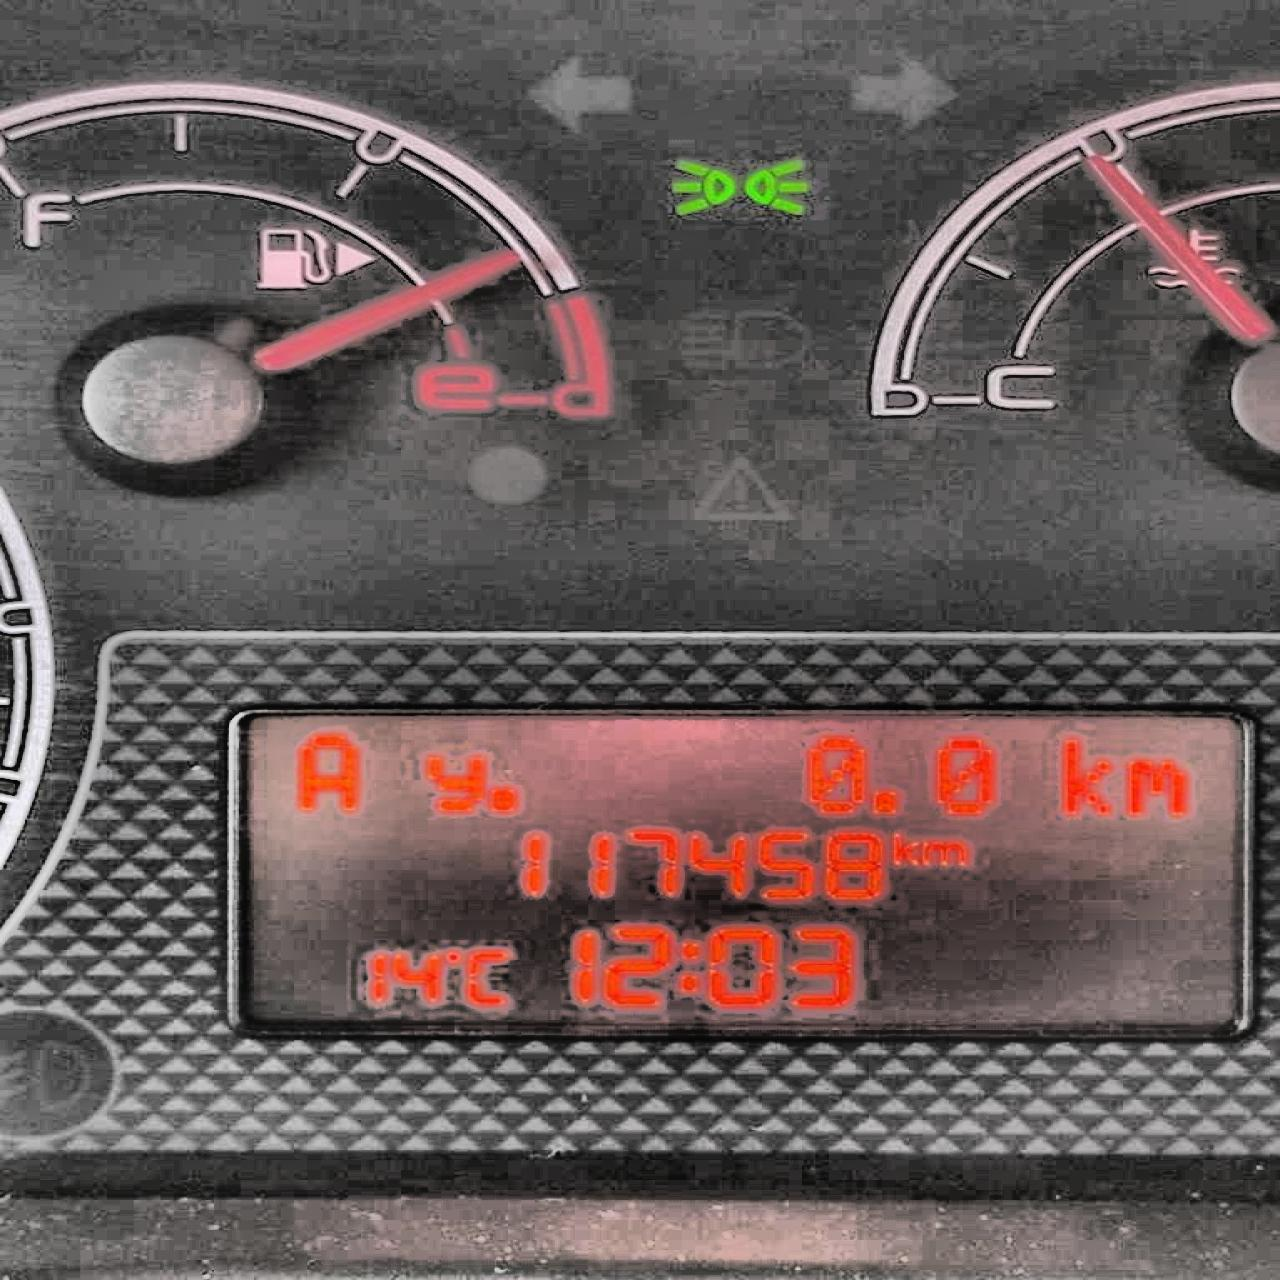-: (867, 787, 900, 817), (486, 783, 518, 812)
0: (707, 924, 777, 1012), (930, 734, 998, 816), (804, 734, 867, 815)
1: (568, 926, 597, 1005), (522, 829, 546, 898), (590, 829, 613, 899), (368, 952, 388, 1008)
2: (601, 922, 674, 1008)
3: (789, 925, 856, 1009)
4: (686, 829, 749, 898), (389, 949, 443, 1005)
5: (755, 829, 817, 900)
7: (625, 828, 682, 899)
8: (821, 829, 883, 901)
X: (294, 731, 361, 811), (1056, 733, 1115, 817), (1119, 753, 1189, 817), (422, 753, 484, 813), (464, 946, 509, 1006), (921, 837, 969, 867), (676, 937, 700, 995), (888, 829, 919, 867)
odometer: (220, 703, 1257, 1042)
